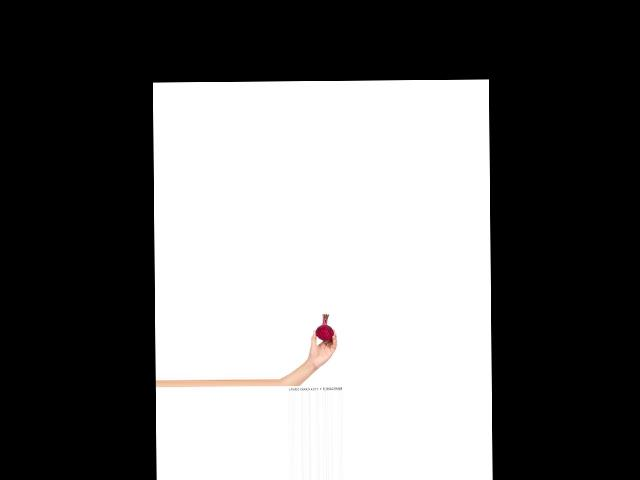beet: (315, 313, 334, 340)
